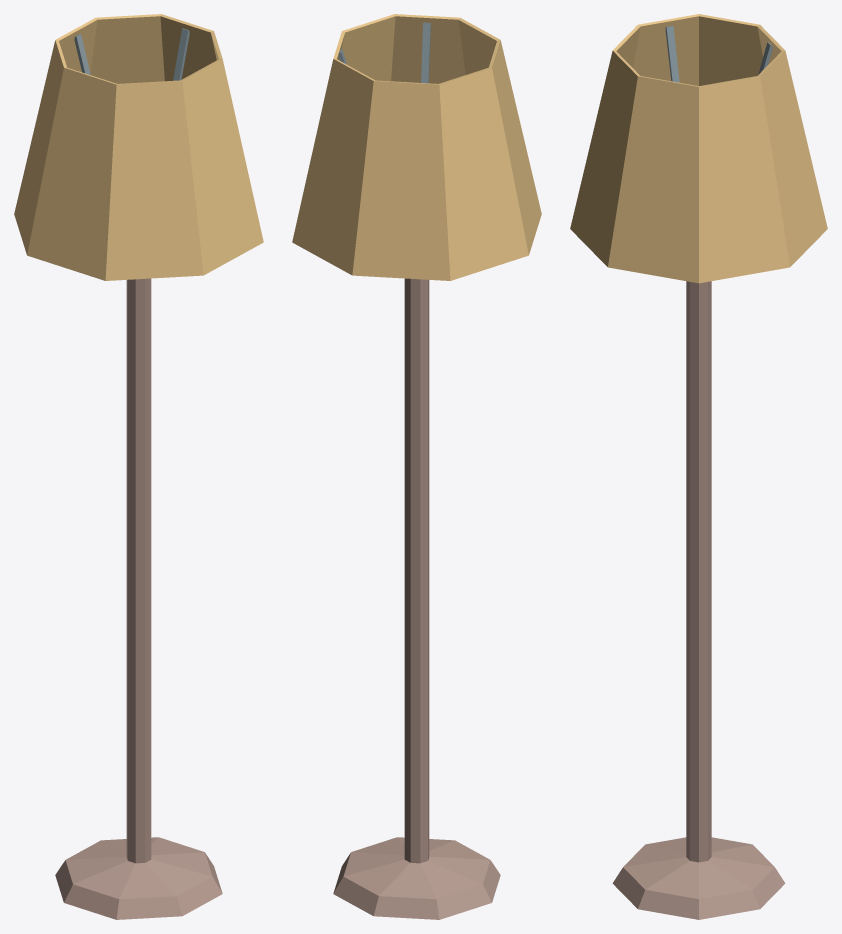
Rendered from standinglamp.glb.
The picture shows the model from 3 angles, left to right: view 1: azimuth 30°, elevation 25°; view 2: azimuth 150°, elevation 25°; view 3: azimuth 270°, elevation 25°; orthographic projection.
Visible parts, largest first — view 1: node-0; view 2: node-0; view 3: node-0.
Boxes of the visible parts, bbox=[...] form: node-0: bbox=[14, 14, 263, 919]; node-0: bbox=[292, 14, 541, 919]; node-0: bbox=[570, 14, 827, 919].
Bounding box in the file's own units: 2.79 × 9.96 × 2.79.
